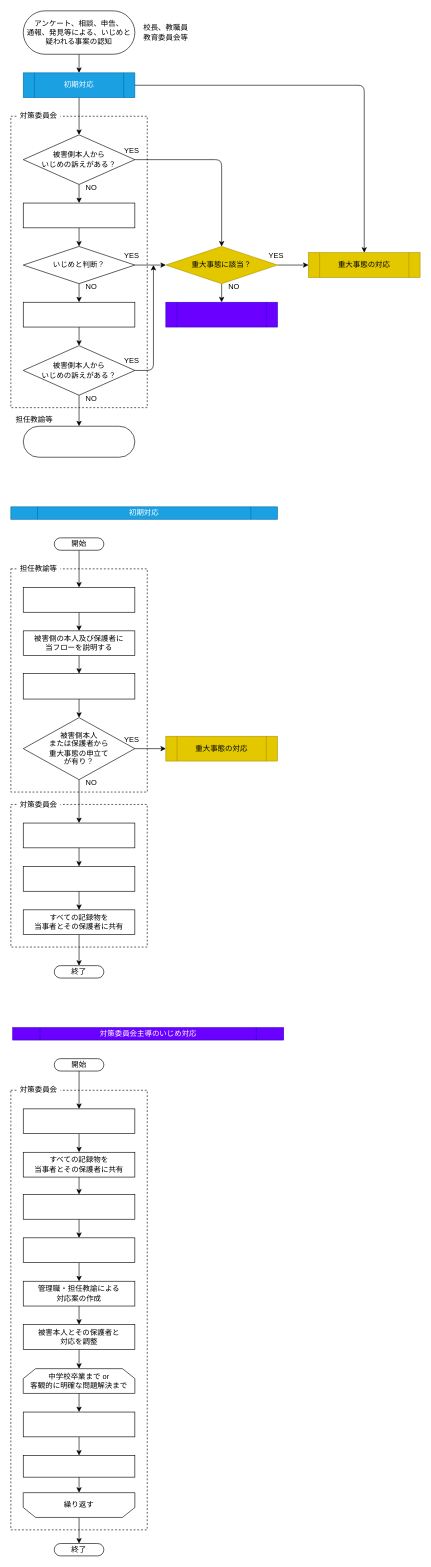
Some shapes in this 431 by 1567 pixel diagram are drawn without their labels. Here are the shapes that lost their labels. From the top down, the centre of each, then its label:
[79,215]: 総合的な判断
[79,314]: 本人と保護者に報告
[221,314]: 対策委員会主導の いじめ対応
[79,441]: 対応は終了するものの 定期的に当事者へ状況を確認
[79,599]: 被害側本人の意向を 確認しながら保護者にも連絡
[79,686]: 担任教諭による対応
[79,835]: いじめ問題対策委員会の 緊急開催
[79,878]: いじめの疑いに関する情報の 収集・記録
[79,1121]: 児童・生徒への聴取、 情報収集、記録
[79,1206]: 関係児童・生徒へのケア
[79,1250]: 被害本人とその保護者への 定期的報告
[79,1424]: 対応案にもとづく措置・対応
[79,1466]: 措置・対応の検証
